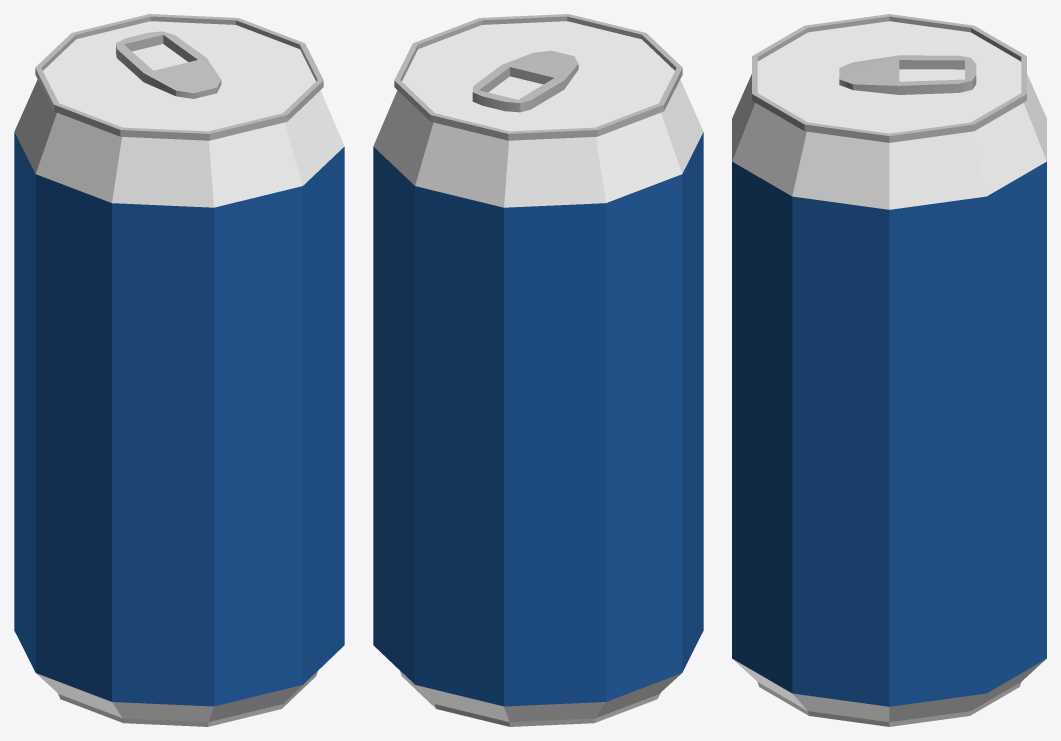
File: can_b.fbx
3 renders of one model, left to right at view 1: azimuth 30°, elevation 25°; view 2: azimuth 150°, elevation 25°; view 3: azimuth 270°, elevation 25°, orthographic.
Parts seen in each view (by area): view 1: Can_B; view 2: Can_B; view 3: Can_B.
Boxes of the visible parts, x1,y1,x2,y2 form: Can_B: (14,14,344,726); Can_B: (373,14,703,726); Can_B: (732,14,1046,726).
Bounding box in the file's own units: 0.0977 × 0.1956 × 0.093.
